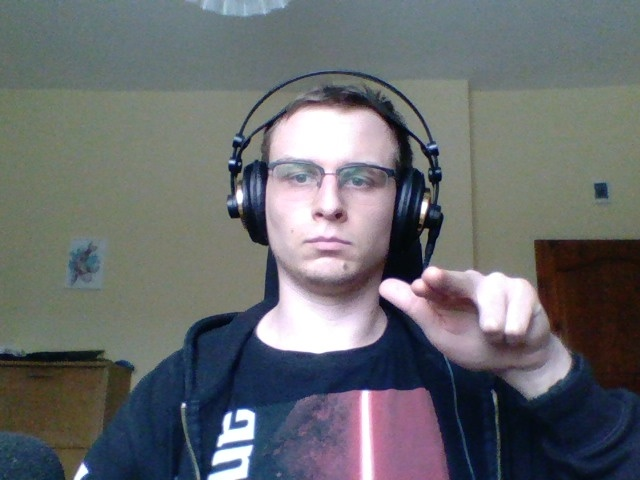no: (366, 242, 578, 399)
